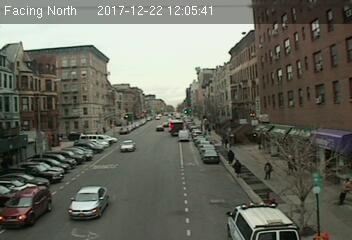car: (1, 182, 55, 226), (67, 182, 110, 220), (201, 149, 221, 164), (120, 140, 138, 153)
pedestrian: (264, 160, 273, 179)
police: (223, 195, 298, 240)
truck: (179, 129, 189, 141)
ups: (170, 121, 185, 136)
